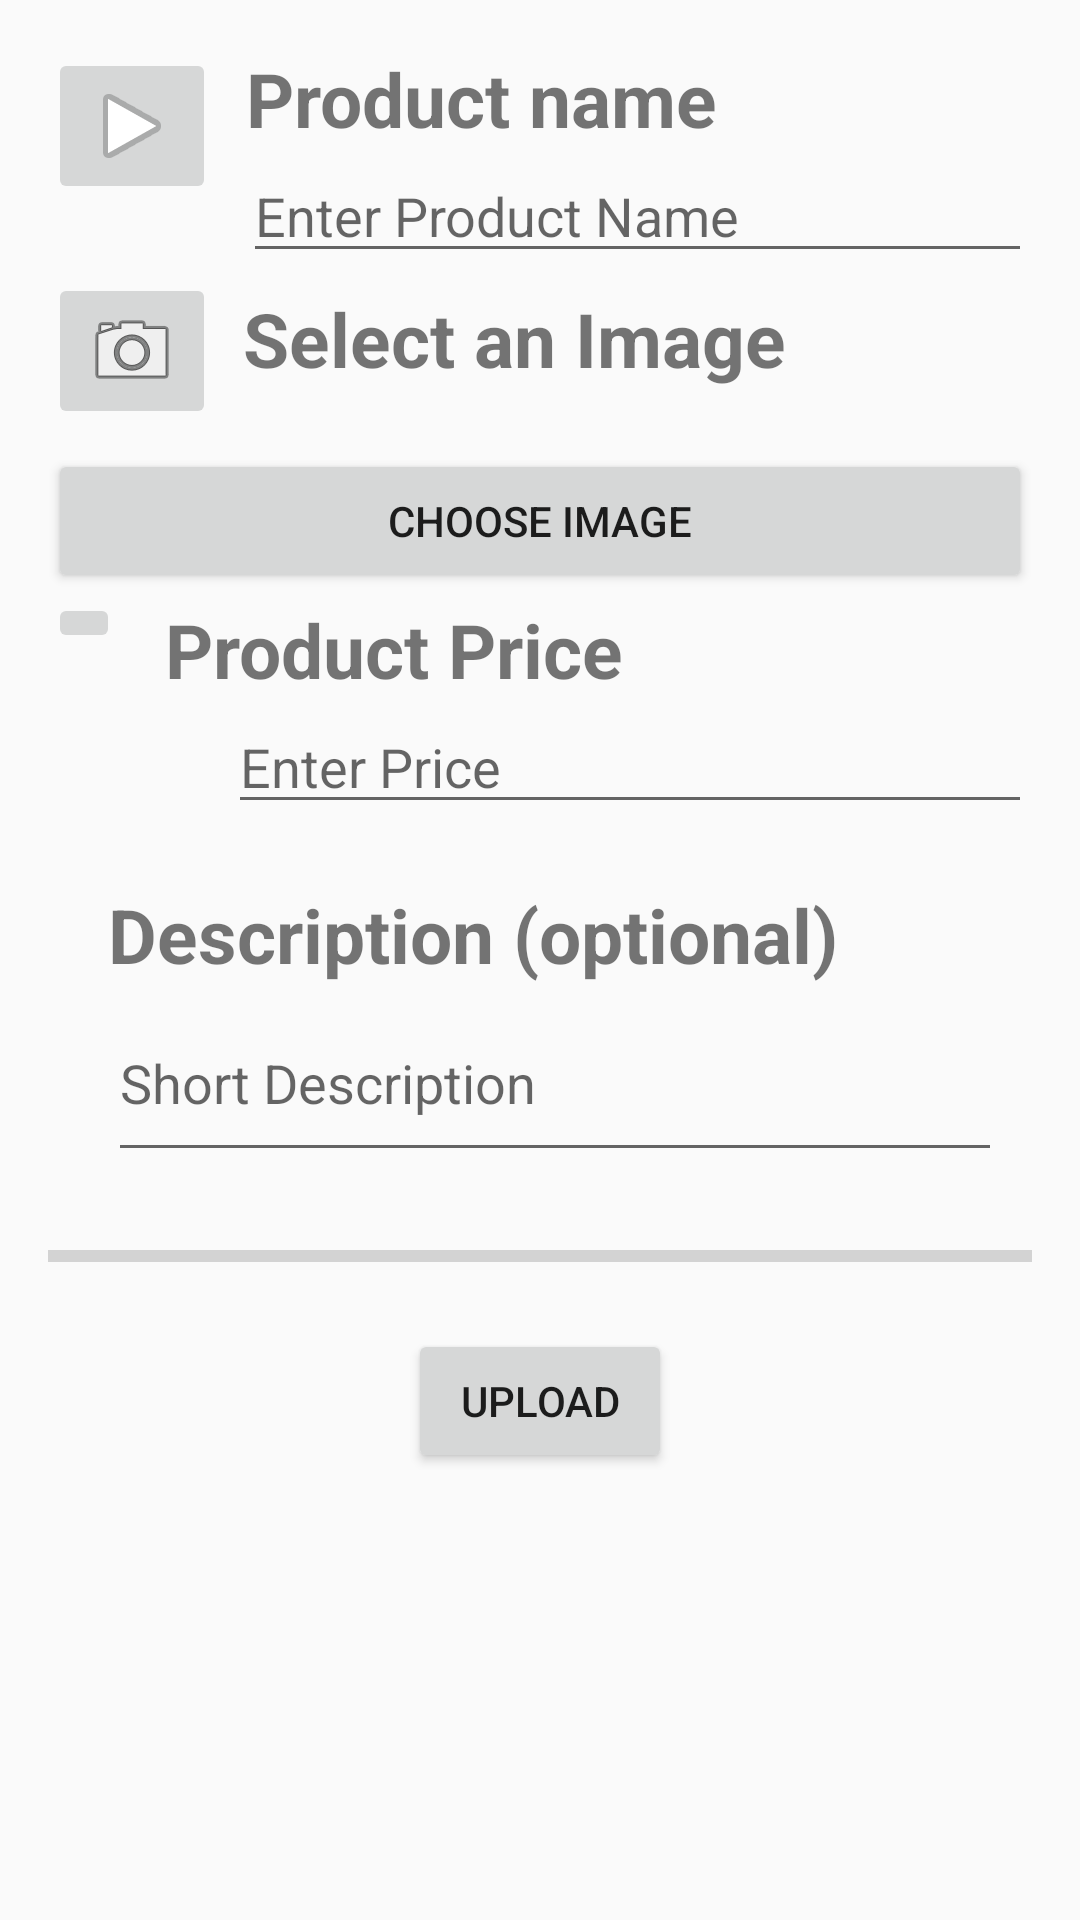

Icons on this 1080×1920 Android screen, each with its box as (x1, y1, x2, y2):
camera: (60, 291, 204, 411)
play: (60, 66, 204, 186)
